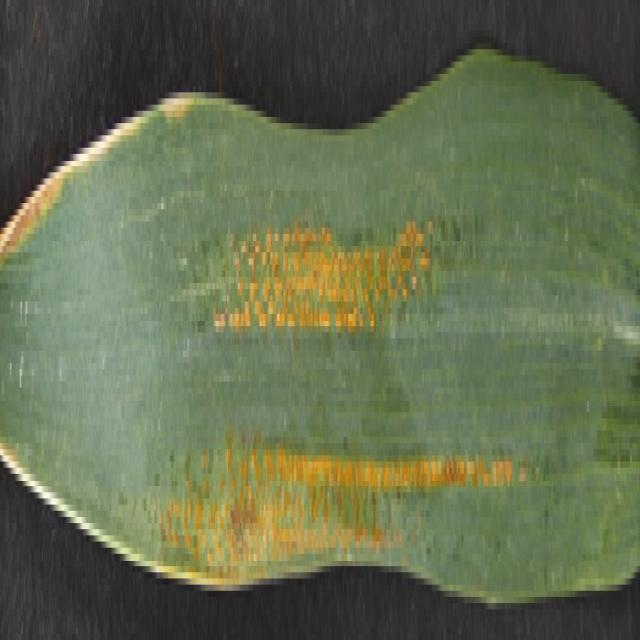leaf rust: (150, 191, 528, 603)
